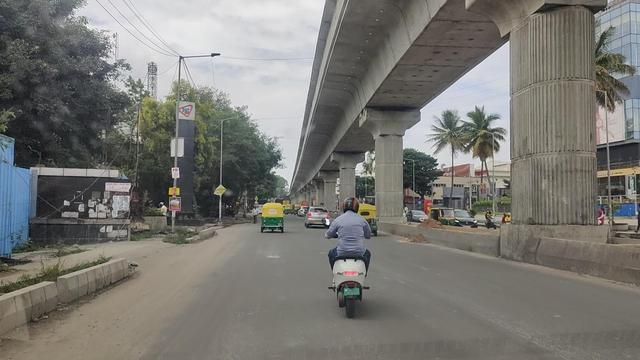LMV: (319, 190, 373, 321), (261, 202, 288, 233)
